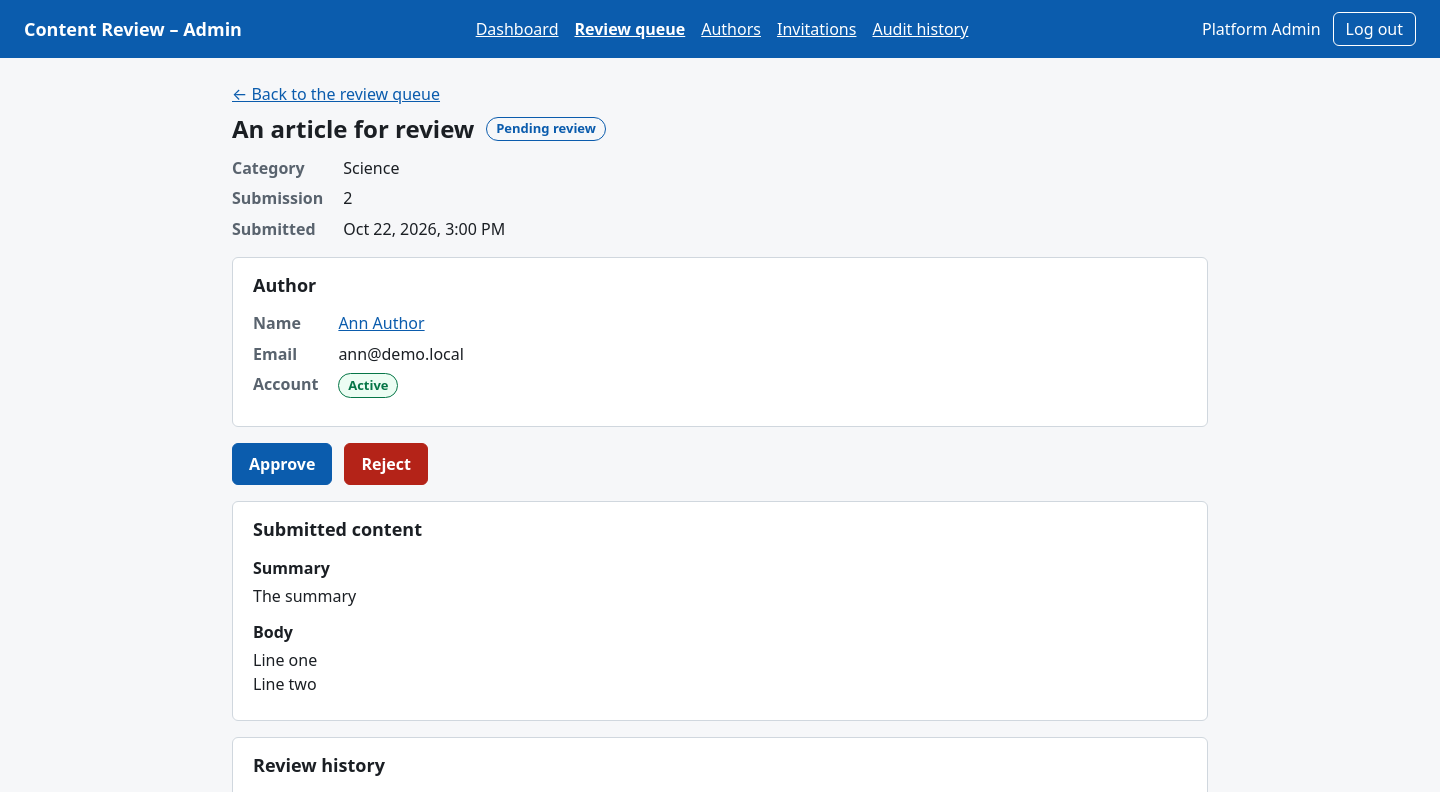
Test case: approving › keeps the dialog open with the message for other failures
Expected: the heading "An article for review" is shown, x1=232 y1=114 x2=474 y2=144
What coordinates should you click on to do the following:
click the button with test id "review-approve"
I would click on:
 (282, 464)
Its box is x1=232 y1=443 x2=332 y2=485.
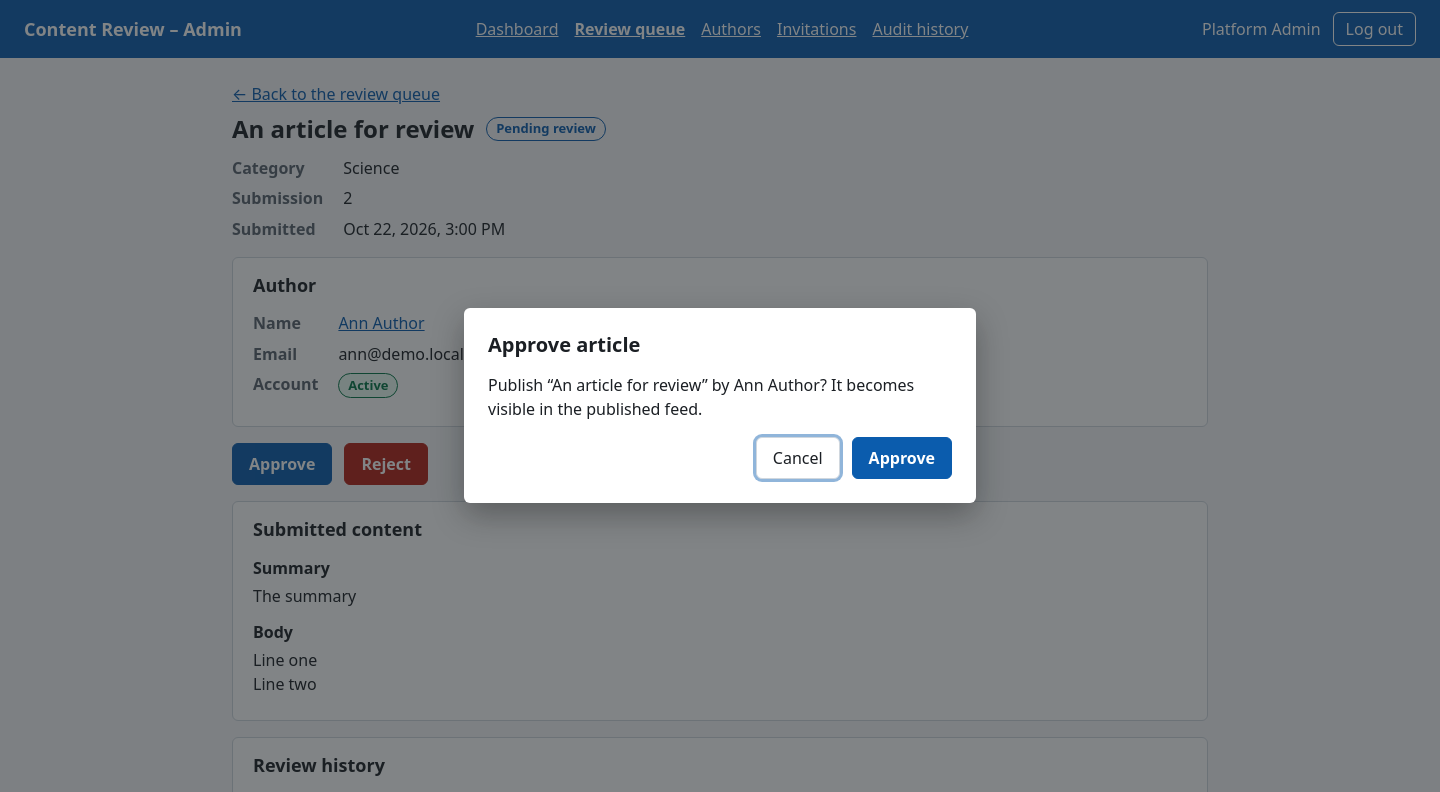
What coordinates should you click on to do the following:
click the button with test id "review-approve-confirm"
I would click on:
 (902, 458)
Its box is x1=852 y1=436 x2=952 y2=478.
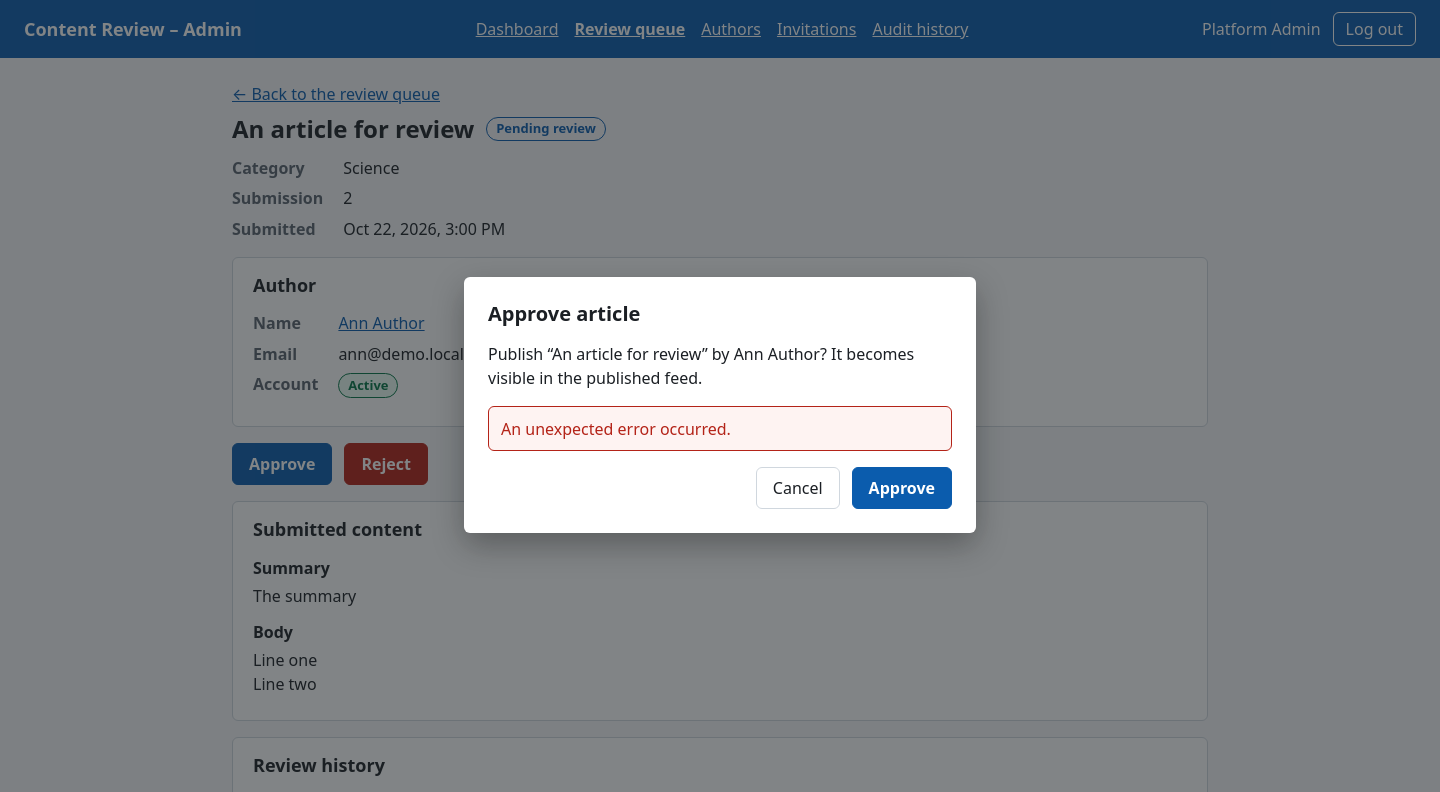
Result: the button with test id "review-approve-confirm" is enabled at x1=852 y1=467 x2=952 y2=509
Result: the message "An unexpected error occurred." is shown at x1=488 y1=406 x2=952 y2=451
